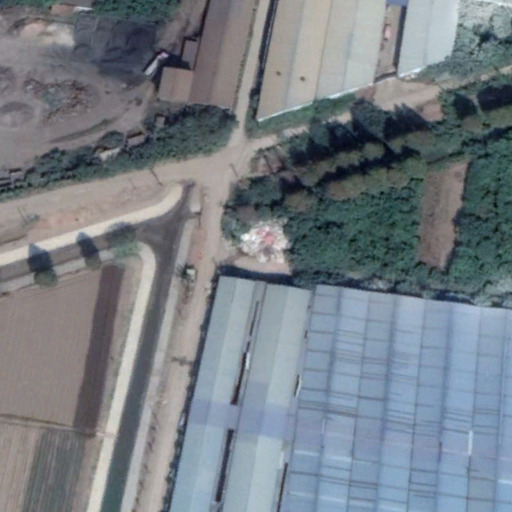msw: (239, 215, 291, 261)
